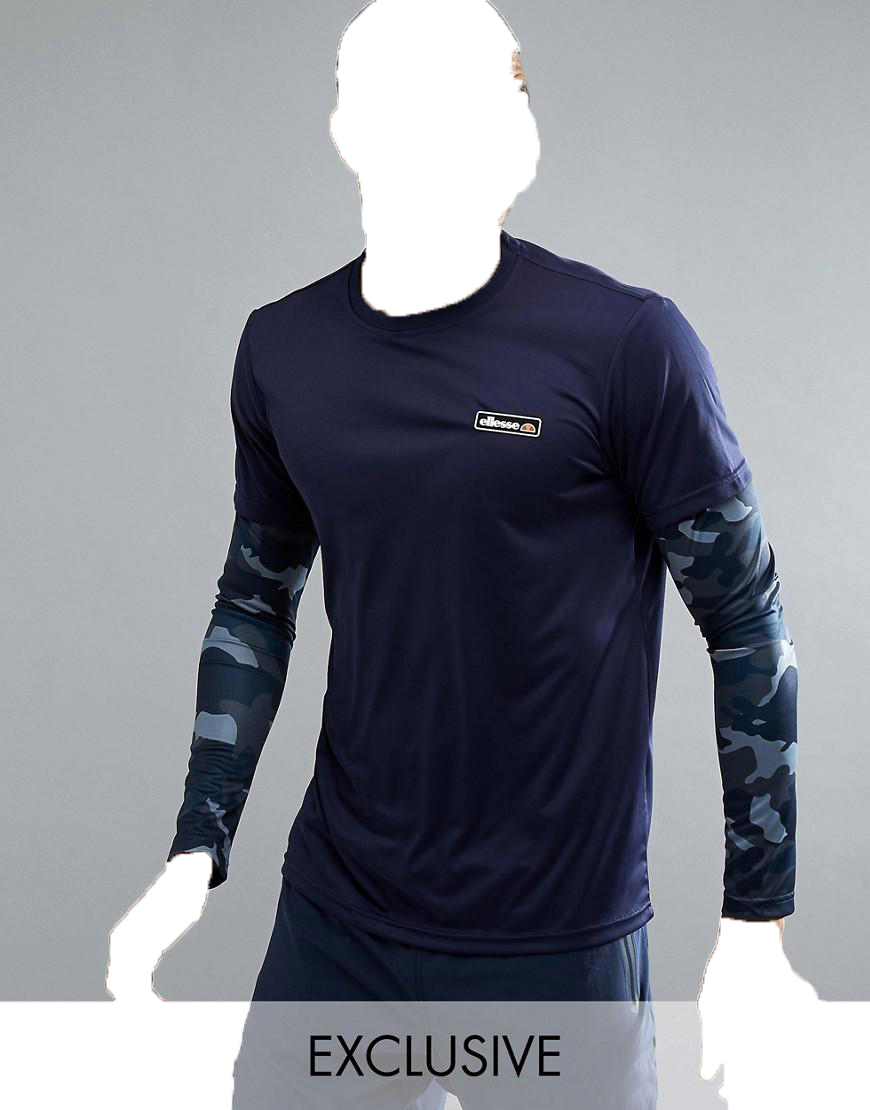teeshirt: (159, 239, 812, 944)
